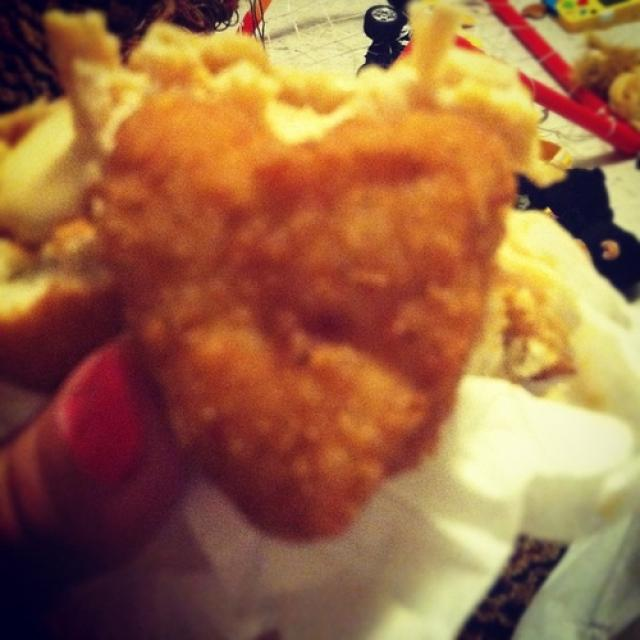鸡肉料理 含炸鸡: (43, 39, 594, 578)
